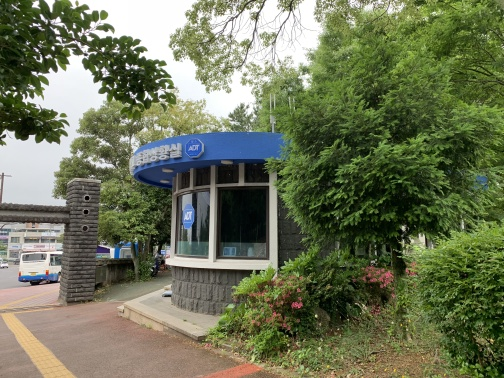Security Office: (123, 129, 294, 315)
